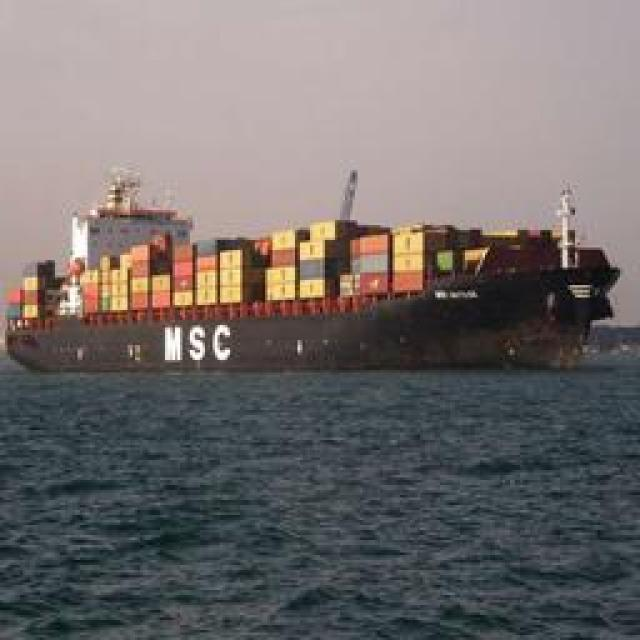ship2: (4, 165, 621, 372)
